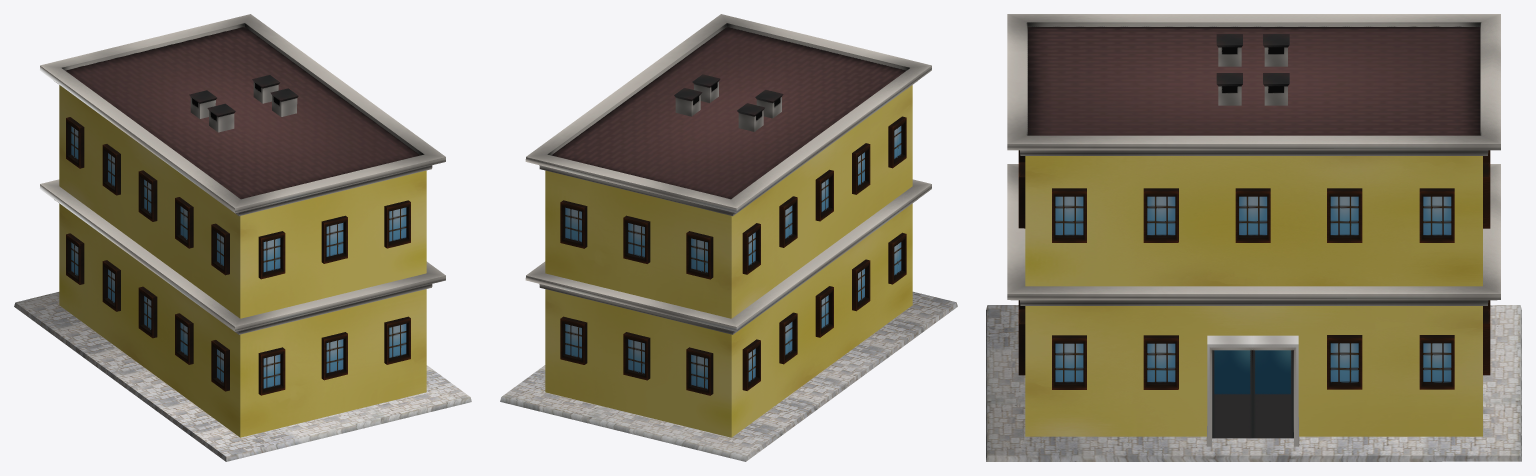
File: classic-building4.fbx
The picture shows the model from 3 angles, left to right: view 1: azimuth 30°, elevation 25°; view 2: azimuth 150°, elevation 25°; view 3: azimuth 270°, elevation 25°; orthographic projection. The views are drawn at different scales.
Visible parts, largest first — view 1: flat_roof2, wallls_cb, wallls_cb_2, Group1, flat_roof, WINDOW_35, WINDOW_23, WINDOW_21, WINDOW_34, WINDOW_33, WINDOW_22, WINDOW_20 (+13 smaller); view 2: flat_roof2, wallls_cb, wallls_cb_2, Group1, flat_roof, WINDOW_17, WINDOW_16, WINDOW_29, WINDOW_28, WINDOW_27, WINDOW_15, WINDOW_39 (+13 smaller); view 3: flat_roof2, wallls_cb_2, wallls_cb, Group1, flat_roof, door_cb_1, door_cb, WINDOW_46, WINDOW_45, WINDOW_42, WINDOW_37, WINDOW_24 (+8 smaller).
Boxes of the visible parts, x1,y1,x2,y2 form: flat_roof2: [40, 14, 445, 215]; wallls_cb: [59, 203, 426, 437]; wallls_cb_2: [59, 85, 426, 318]; Group1: [14, 292, 471, 461]; flat_roof: [39, 179, 445, 334]; WINDOW_35: [258, 347, 285, 395]; WINDOW_23: [258, 231, 285, 279]; WINDOW_21: [321, 215, 347, 263]; WINDOW_34: [384, 316, 410, 364]; WINDOW_33: [321, 332, 347, 380]; WINDOW_22: [384, 200, 410, 248]; WINDOW_20: [138, 170, 157, 221]; flat_roof2: [525, 14, 931, 216]; wallls_cb: [545, 203, 912, 437]; wallls_cb_2: [545, 85, 912, 318]; Group1: [500, 291, 957, 461]; flat_roof: [525, 179, 931, 334]; WINDOW_17: [560, 200, 587, 248]; WINDOW_16: [686, 231, 713, 279]; WINDOW_29: [560, 316, 587, 364]; WINDOW_28: [686, 347, 713, 395]; WINDOW_27: [623, 332, 650, 380]; WINDOW_15: [623, 215, 650, 263]; WINDOW_39: [779, 312, 797, 364]; flat_roof2: [1007, 14, 1500, 155]; wallls_cb_2: [1025, 156, 1482, 286]; wallls_cb: [1025, 306, 1482, 436]; Group1: [986, 305, 1521, 461]; flat_roof: [1007, 164, 1500, 305]; door_cb_1: [1252, 335, 1298, 446]; door_cb: [1207, 335, 1252, 446]; WINDOW_46: [1419, 335, 1454, 389]; WINDOW_45: [1327, 335, 1362, 389]; WINDOW_42: [1419, 188, 1454, 242]; WINDOW_37: [1327, 188, 1362, 242]; WINDOW_24: [1143, 335, 1178, 389].
Bounding box in the file's own units: 781 × 787 × 1167.
Materials: 6 (6 with a texture image).
